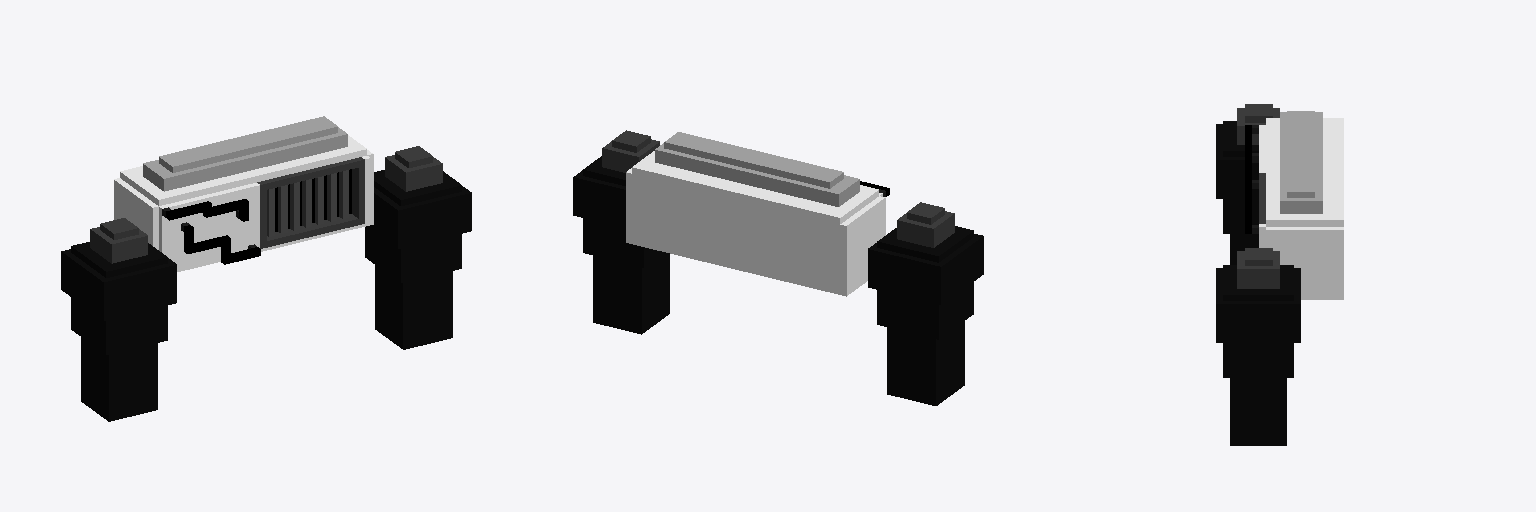
The picture shows the model from 3 angles: view 1: azimuth 30°, elevation 25°; view 2: azimuth 150°, elevation 25°; view 3: azimuth 270°, elevation 25°; orthographic projection.
Visible parts, largest first — view 1: object 1; view 2: object 1; view 3: object 1.
Part boxes in pixels (left/top/right/bottom): object 1: left=61, top=116, right=471, bottom=421; object 1: left=573, top=130, right=983, bottom=405; object 1: left=1216, top=104, right=1343, bottom=445.
Bounding box in the file's own units: 6 × 3.3 × 1.8.
1 materials, 1 textured.